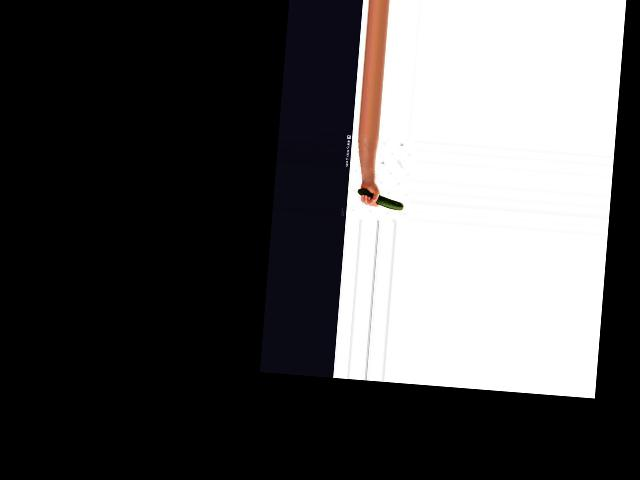cucumber: (356, 189, 404, 211)
